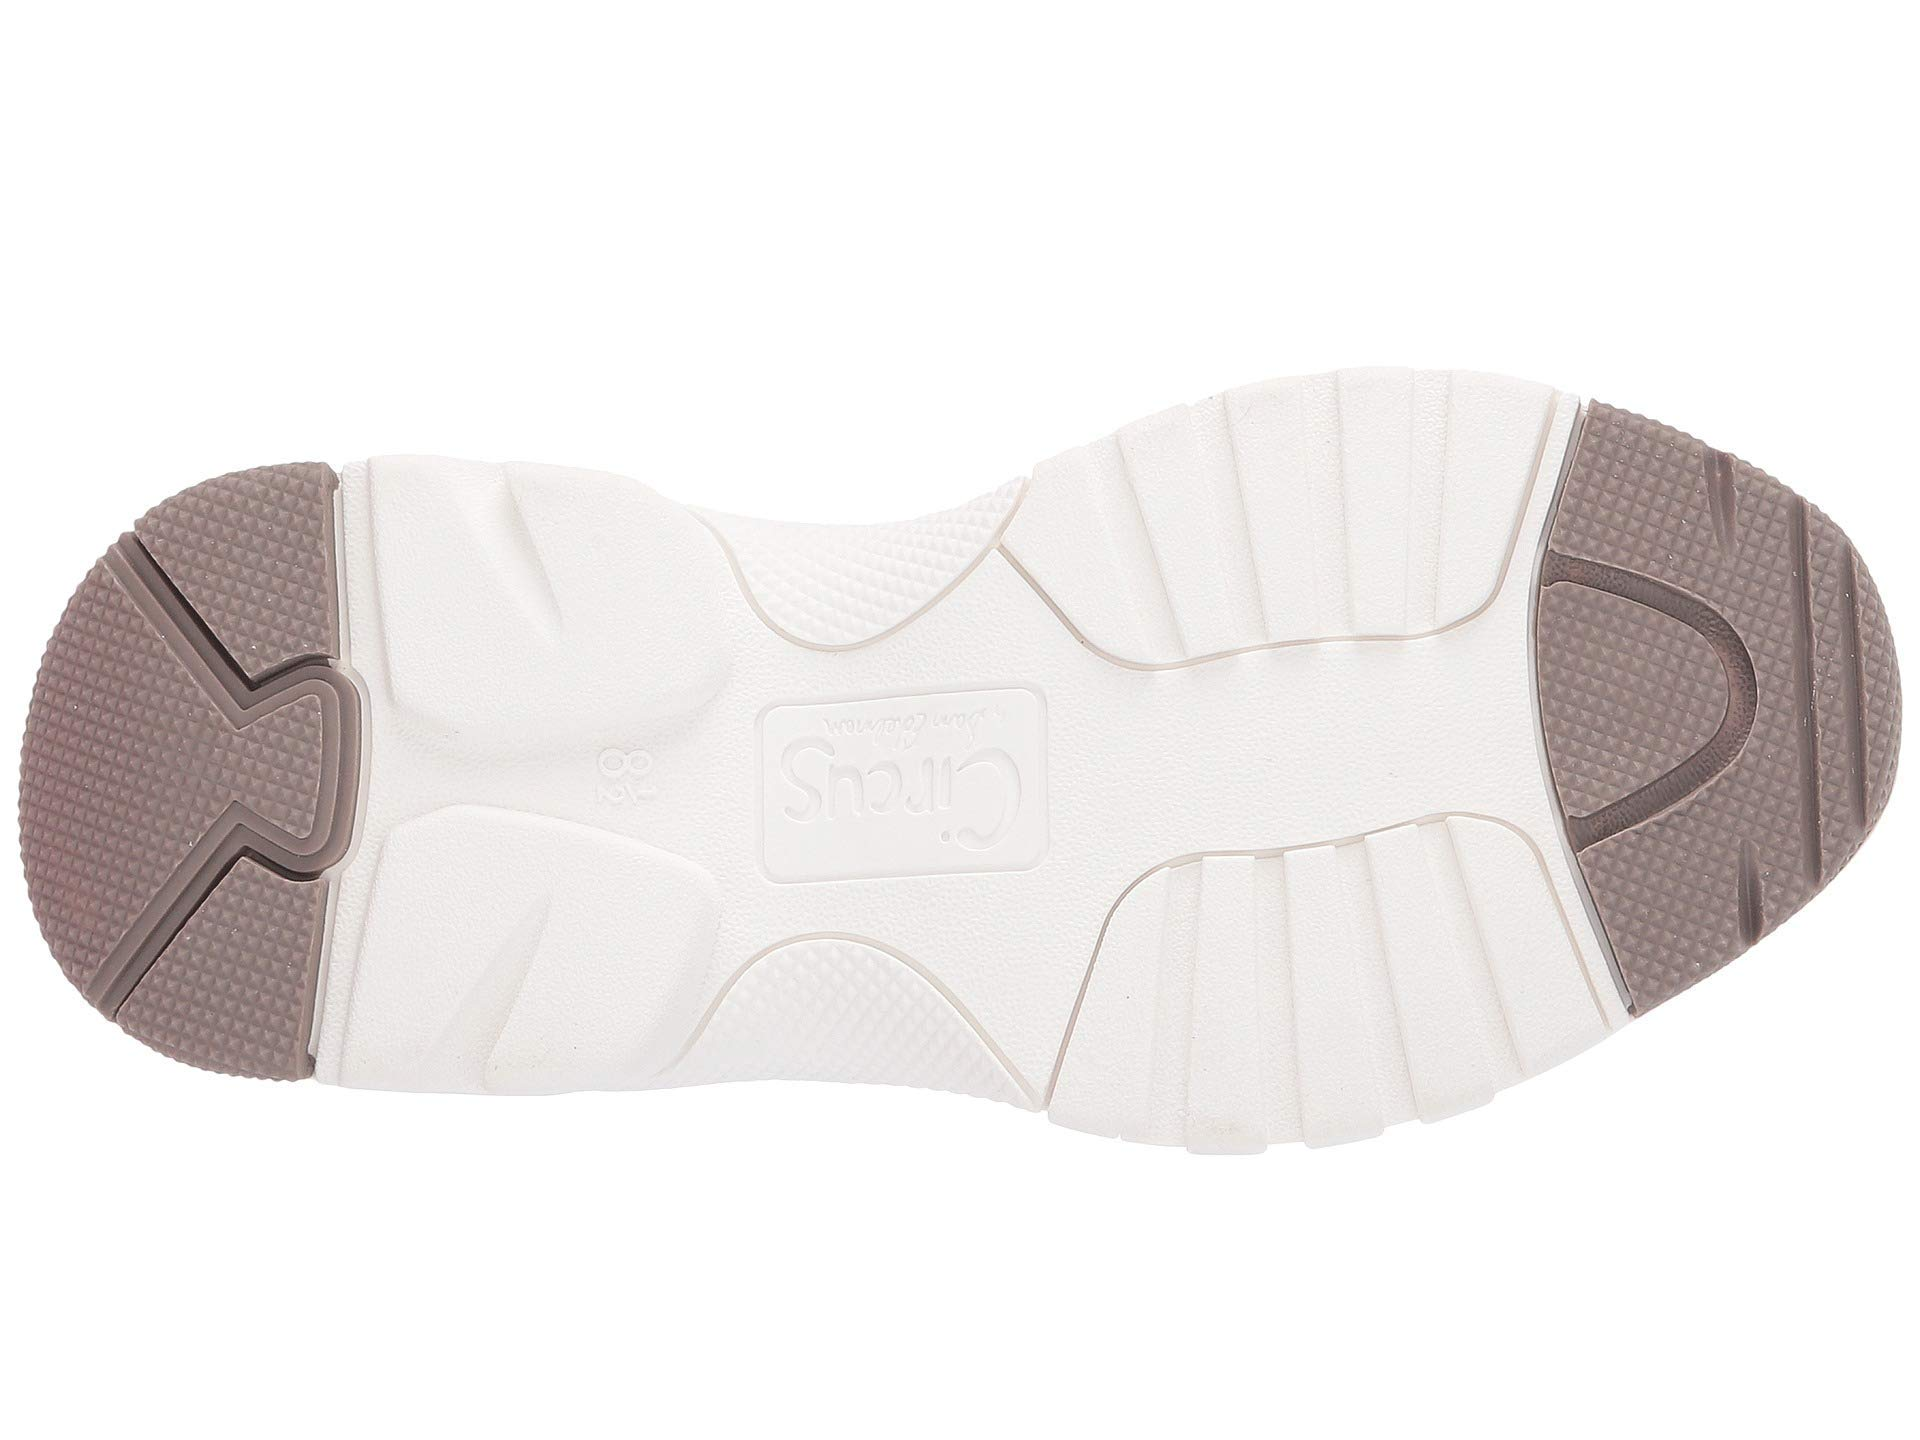line: (1603, 437, 1881, 903), (39, 628, 373, 920)
other: (1603, 437, 1881, 903), (39, 628, 373, 920)
quad: (1603, 437, 1881, 903), (39, 628, 373, 920), (723, 656, 1079, 897), (1208, 389, 1459, 646)
text: (723, 656, 1079, 897), (571, 729, 676, 818)
